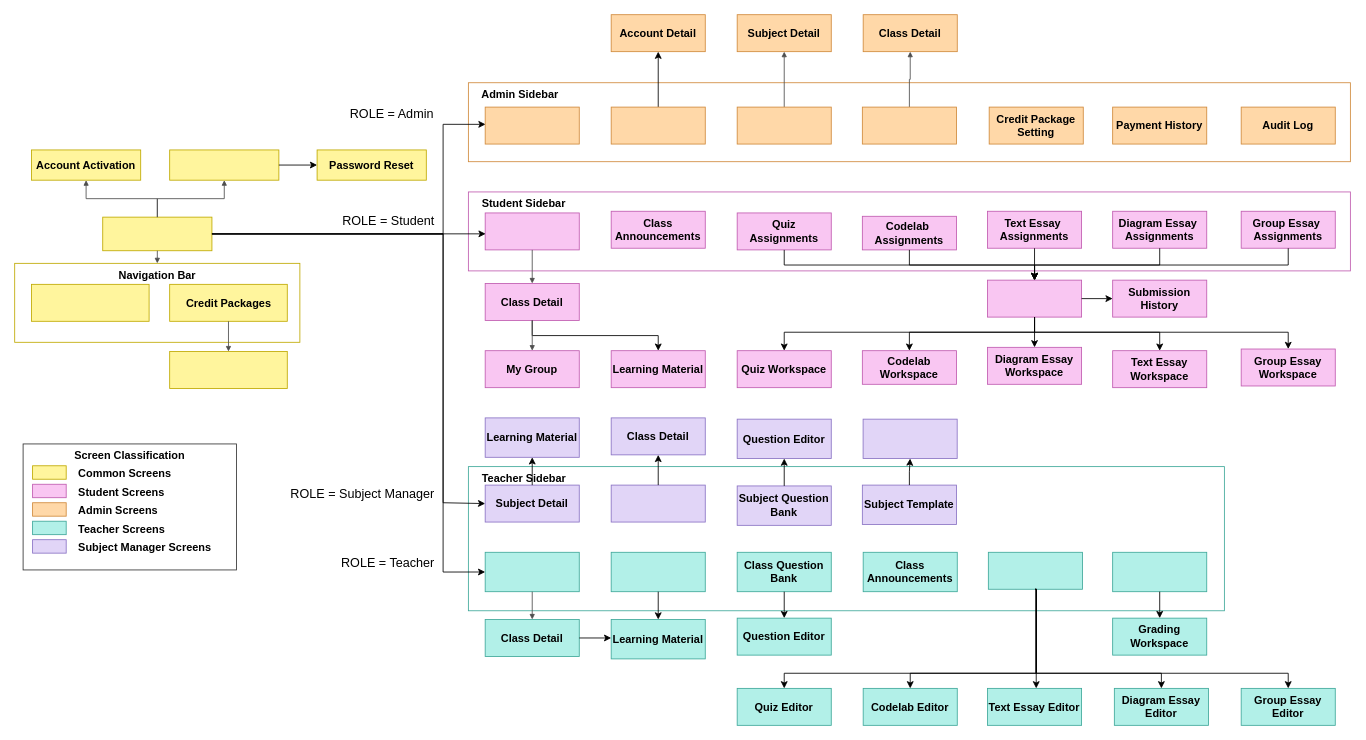
Some shapes in this 1366 by 740 pixel diagram are drawn without their labels. The centre of each missing label's shape, as x and y in pixels:
"Account List" belongs at pixel 657 125.
"Assigned Classes" belongs at pixel 531 571.
"Assignment Detail" belongs at pixel 1034 298.
"Assignment List" belongs at pixel 1035 570.
"Class List" belongs at pixel 909 125.
"Login" belongs at pixel 157 233.
"My Classes" belongs at pixel 531 231.
"Password Recovery" belongs at pixel 224 164.
"Payment Result" belongs at pixel 228 369.
"Profile" belongs at pixel 90 302.
"Statistic" belongs at pixel 531 125.
"Student Submissions" belongs at pixel 1159 571.
"Subject Classes" belongs at pixel 657 503.
"Subject List" belongs at pixel 783 125.
"Template Editor" belongs at pixel 909 438.
"Uploaded Learning Materials" belongs at pixel 657 571.
